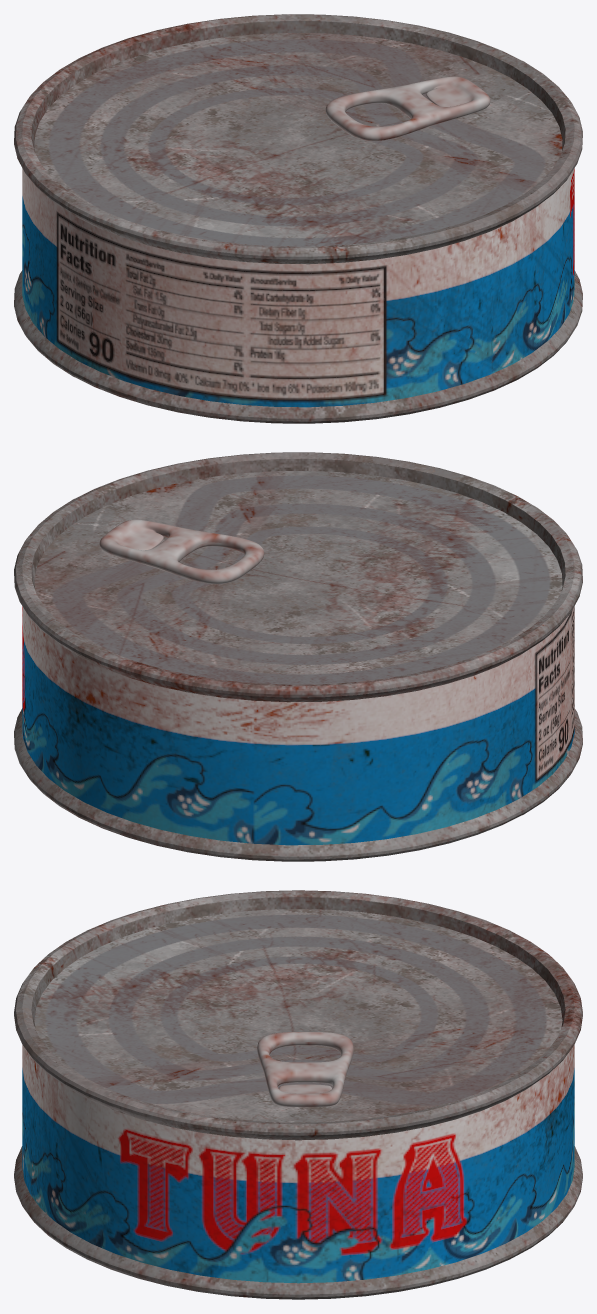
File: tunacan .fbx
3 renders of one model, top to bottom at view 1: azimuth 30°, elevation 25°; view 2: azimuth 150°, elevation 25°; view 3: azimuth 270°, elevation 25°, orthographic.
Visible parts, largest first — view 1: tuna_can, tuna_can_tab; view 2: tuna_can, tuna_can_tab; view 3: tuna_can, tuna_can_tab.
Boxes of the visible parts, x1,y1,x2,y2 form: tuna_can: (14, 14, 582, 423); tuna_can_tab: (325, 76, 490, 140); tuna_can: (14, 452, 582, 861); tuna_can_tab: (99, 519, 264, 584); tuna_can: (14, 890, 582, 1299); tuna_can_tab: (257, 1032, 353, 1107).
Bounding box in the file's own units: 206 × 69.82 × 206.
2 materials, 2 textured.
